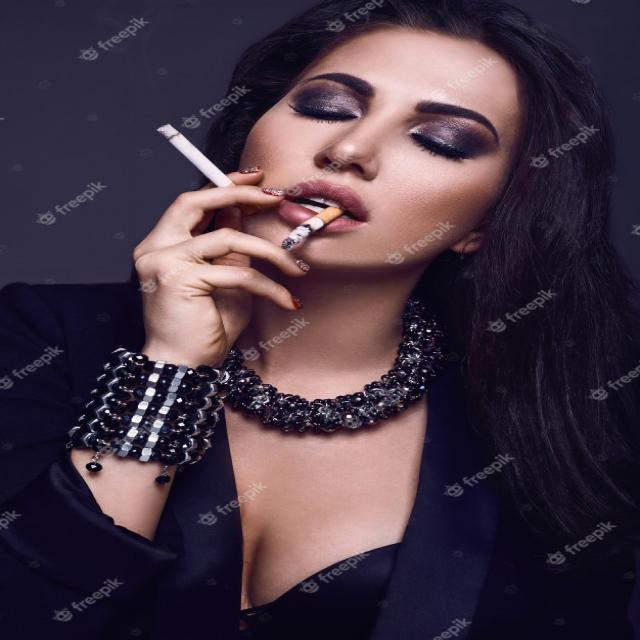smoke: (152, 122, 246, 192), (276, 204, 351, 253)
